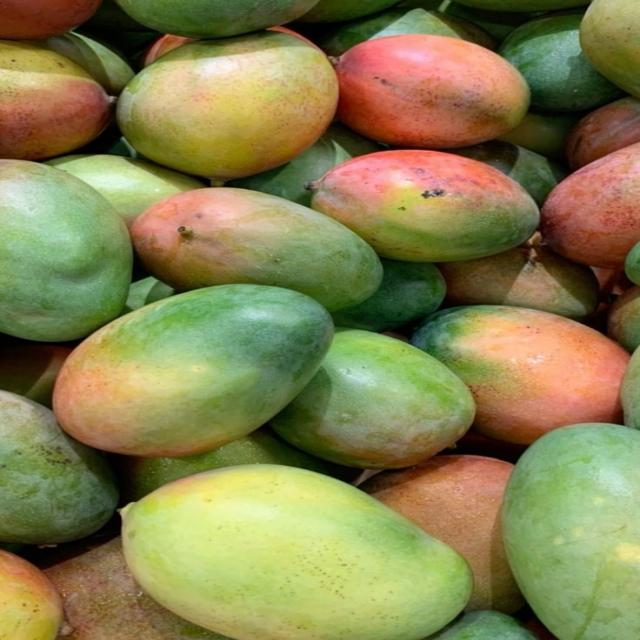mango: (122, 465, 471, 639), (54, 285, 333, 456), (118, 31, 338, 180), (131, 187, 382, 310), (412, 306, 629, 444), (504, 424, 639, 639), (270, 330, 474, 468), (360, 456, 524, 613), (312, 150, 539, 262), (0, 160, 132, 341), (336, 34, 529, 148), (45, 538, 230, 639), (113, 428, 357, 502), (0, 391, 118, 544), (0, 41, 111, 160), (226, 123, 382, 206), (439, 239, 598, 320), (500, 12, 623, 111), (541, 144, 639, 268), (47, 154, 204, 226), (316, 8, 494, 56), (333, 259, 446, 331), (117, 0, 317, 38), (450, 141, 566, 206), (37, 32, 134, 95), (580, 0, 639, 97), (0, 550, 63, 639), (567, 97, 639, 169), (0, 344, 71, 407), (434, 0, 541, 41), (0, 0, 100, 40), (499, 112, 580, 160), (427, 611, 536, 639), (82, 0, 152, 39), (607, 286, 640, 353), (299, 0, 397, 22), (140, 34, 201, 67), (140, 34, 200, 67), (124, 276, 176, 313), (456, 0, 589, 12), (621, 349, 639, 429), (625, 242, 639, 285)
